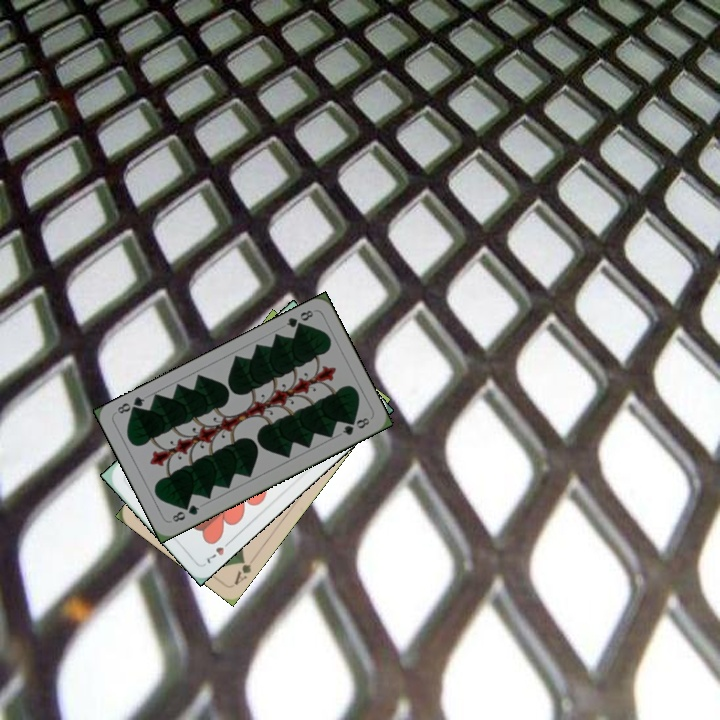G8: (282, 306, 316, 333), (166, 501, 202, 525)
GA: (230, 554, 254, 588)
H7: (202, 535, 235, 567)
